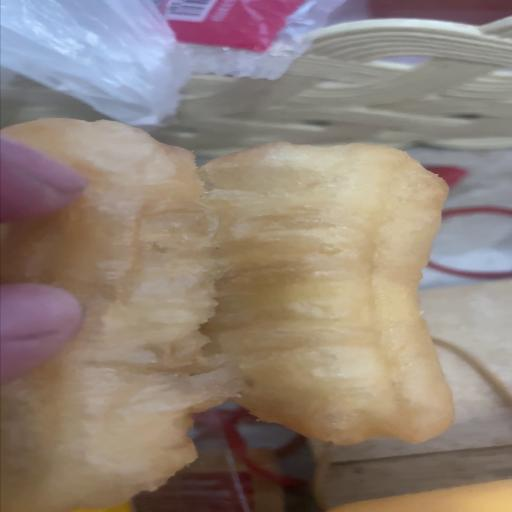street_golden_defect: (0, 131, 454, 512)
